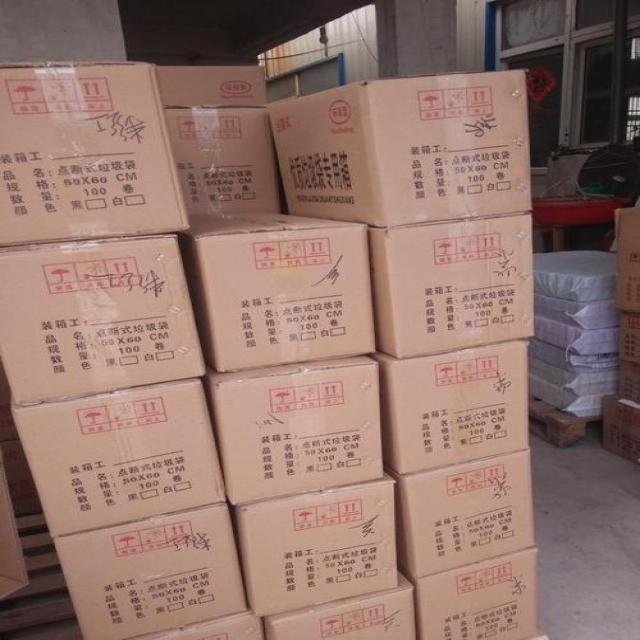Carton: (0, 59, 221, 531), (273, 70, 531, 229), (54, 503, 244, 639), (195, 226, 371, 367), (221, 365, 378, 499), (380, 217, 529, 357), (242, 482, 392, 611), (387, 342, 529, 475), (404, 450, 529, 579), (417, 554, 535, 639)
